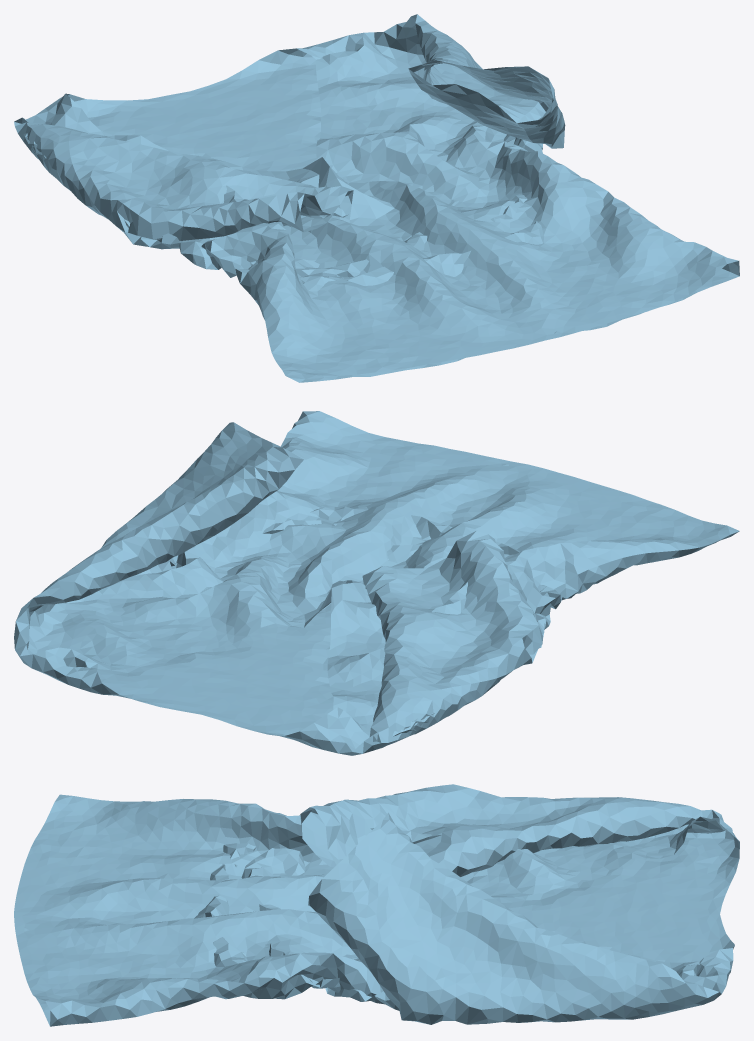
Rendered from frame_16.glb.
3 views of the same model, one above another, from view 1: azimuth 30°, elevation 25°; view 2: azimuth 150°, elevation 25°; view 3: azimuth 270°, elevation 25° (orthographic). The views are drawn at different scales.
Visible parts, largest first — view 1: frame_16.obj; view 2: frame_16.obj; view 3: frame_16.obj.
Boxes of the visible parts, x1,y1,x2,y2 form: frame_16.obj: (14, 14, 739, 382); frame_16.obj: (14, 411, 739, 755); frame_16.obj: (14, 784, 739, 1026).
Bounding box in the file's own units: 1.17 × 0.3427 × 1.58.
